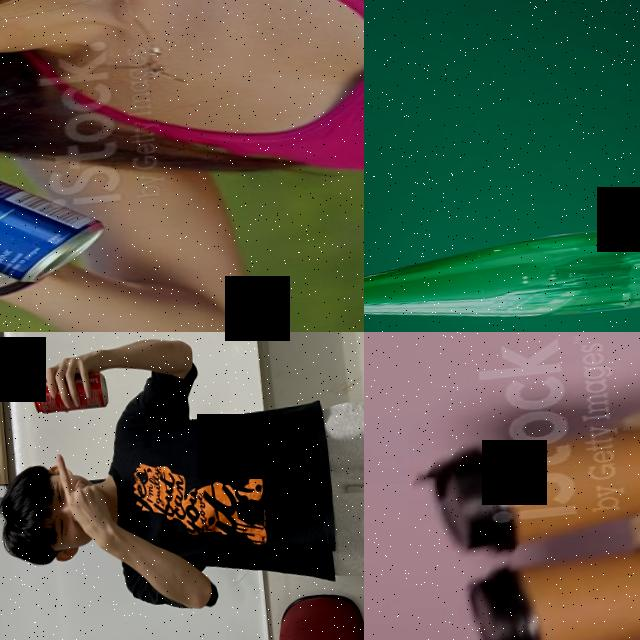bottle: (364, 208, 640, 332)
can: (0, 103, 109, 304), (30, 368, 110, 414)
cup: (430, 425, 640, 559), (464, 541, 640, 640)
